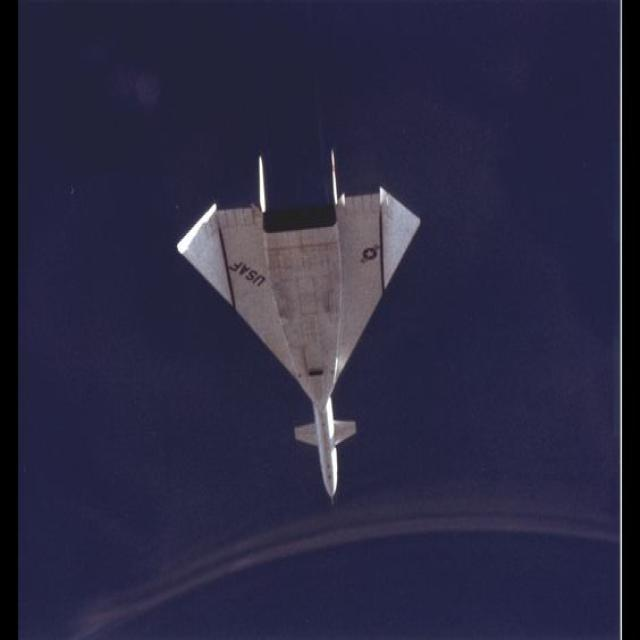MIL_Plane: (175, 147, 421, 505)
